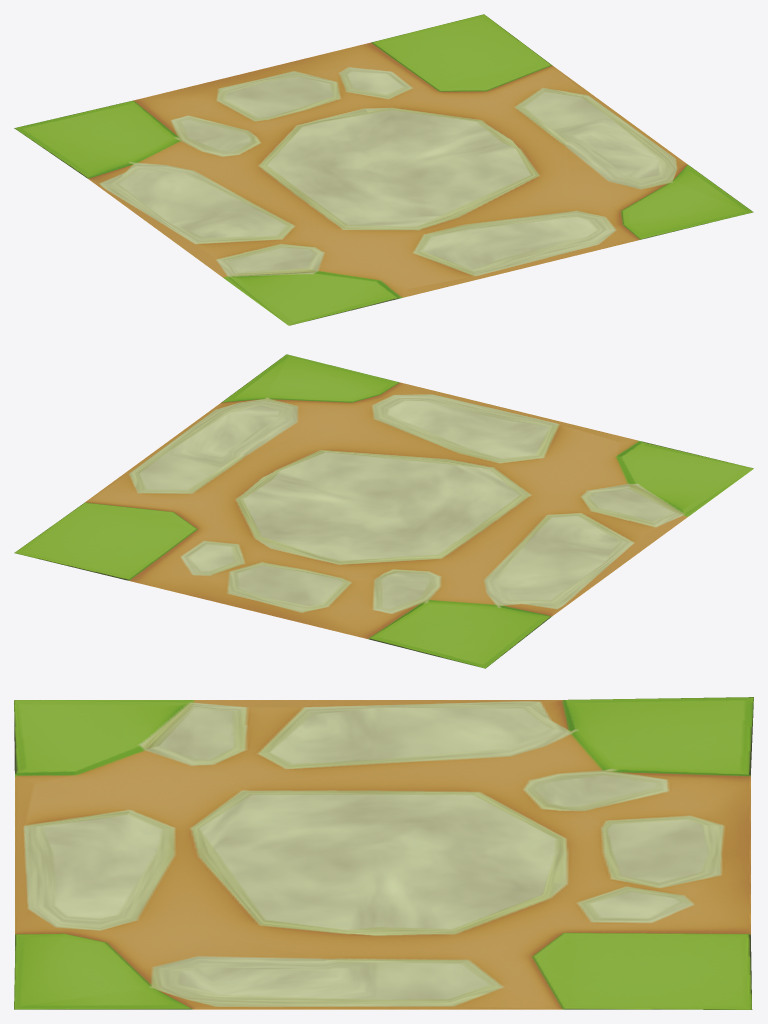
Rendered from stjunc.glb.
3 views of the same model, one above another, from view 1: azimuth 30°, elevation 25°; view 2: azimuth 150°, elevation 25°; view 3: azimuth 270°, elevation 25° (orthographic). The views are drawn at different scales.
Parts seen in each view (by area): view 1: Junction; view 2: Junction; view 3: Junction.
Part boxes in pixels (x1,y1,x2,y2): Junction: (14,14,753,325); Junction: (14,354,753,668); Junction: (14,697,753,1009).
Bounding box in the file's own units: 2 × 0.00945 × 2.
Materials: 1 (1 with a texture image).
